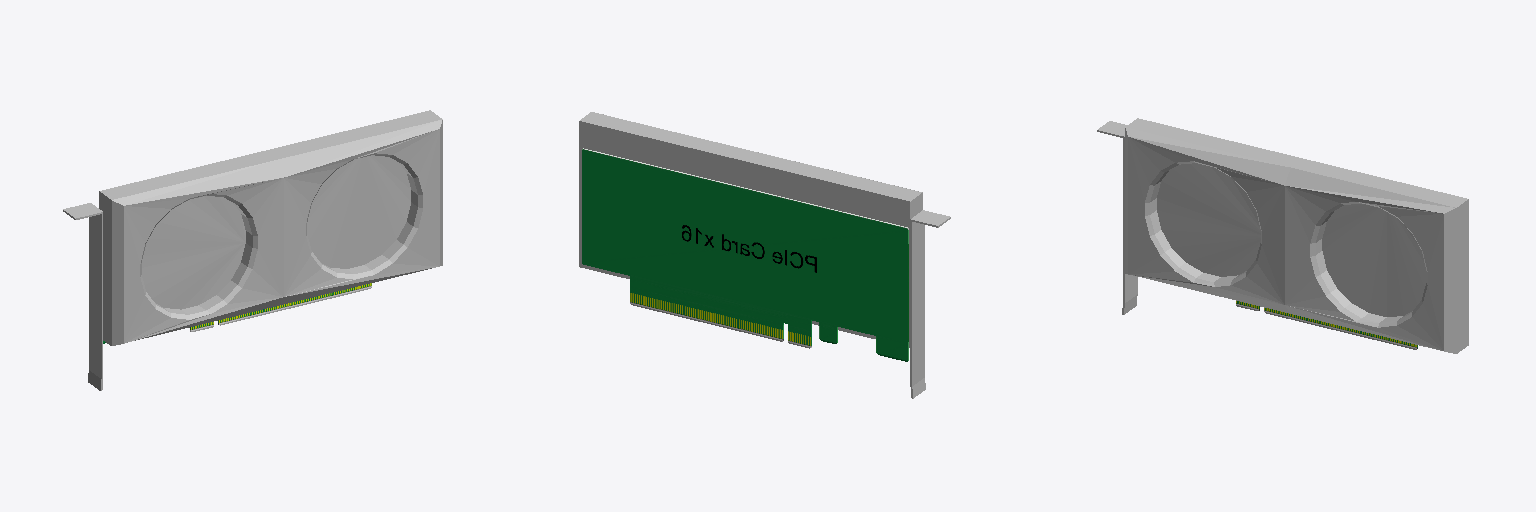
3 views of the same model, side by side, from view 1: azimuth 30°, elevation 25°; view 2: azimuth 150°, elevation 25°; view 3: azimuth 330°, elevation 25° (orthographic).
Visible parts, largest first — view 1: GPU_Cube.001; view 2: GPU_Cube.001; view 3: GPU_Cube.001.
Part boxes in pixels (bbox=[...]): GPU_Cube.001: bbox=[63, 110, 442, 390]; GPU_Cube.001: bbox=[579, 112, 950, 398]; GPU_Cube.001: bbox=[1097, 118, 1468, 353].
Size of the model in its own units: 4.94 by 2.5 by 0.5391.
3 materials, 1 textured.